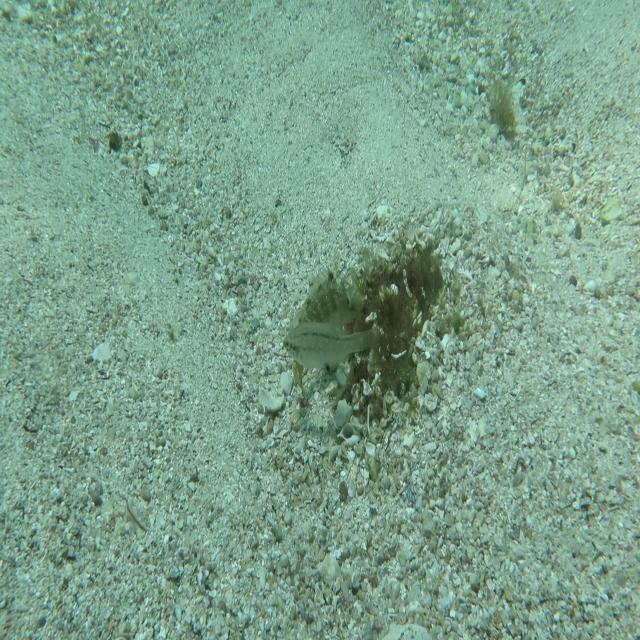BEND: (288, 261, 366, 393)
female: (282, 317, 384, 376)
nest: (318, 218, 456, 434)
